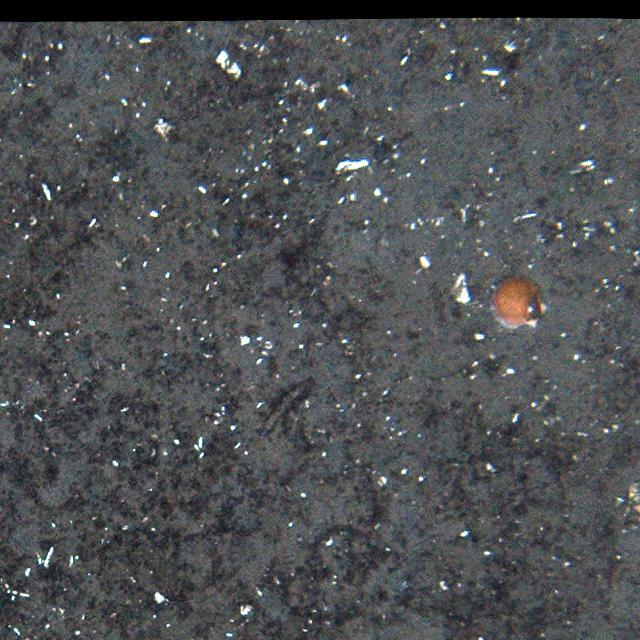scallop: (490, 268, 552, 333)
